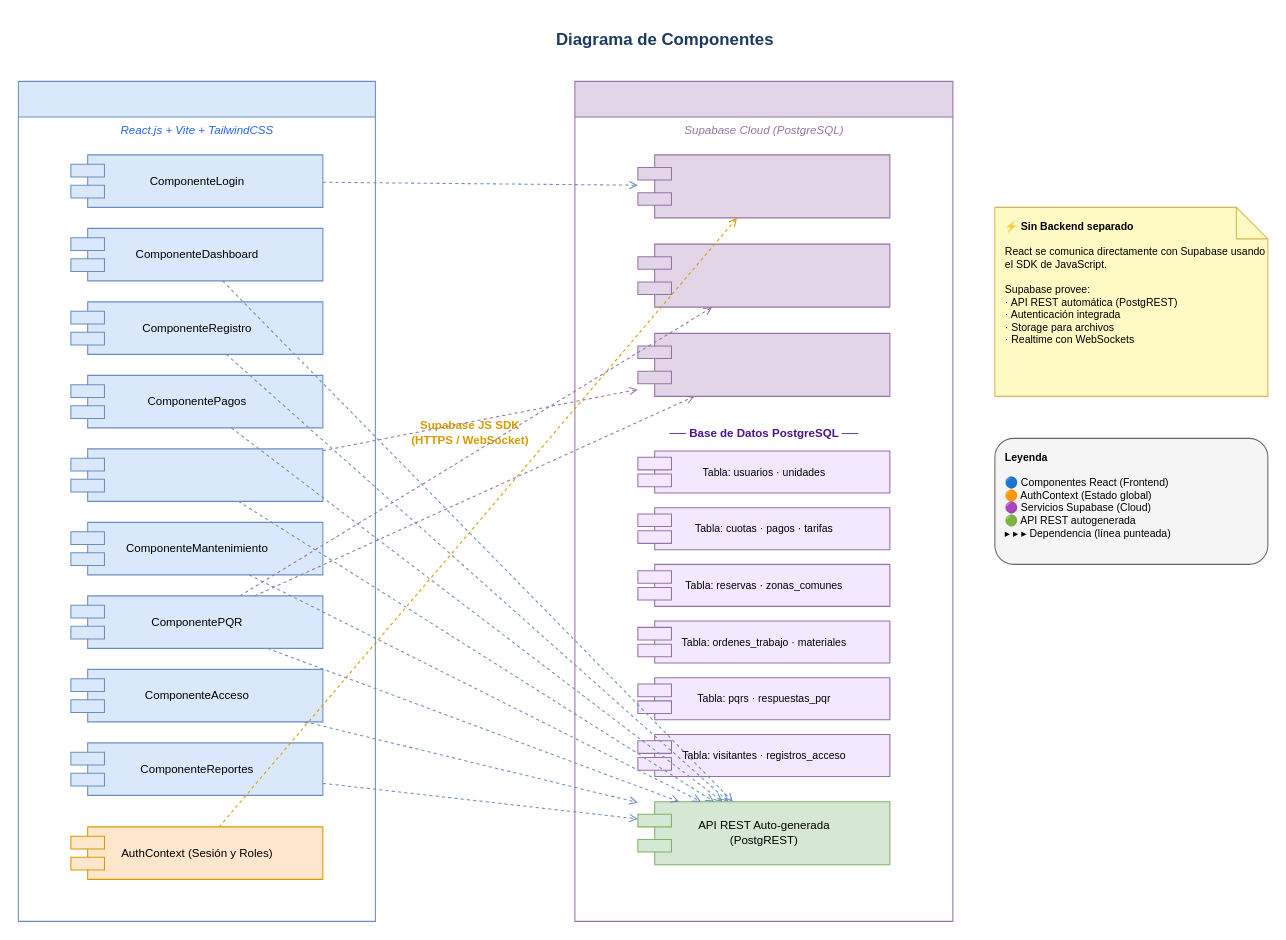
This 1286x940 diagram has some shape labels left out. The centre of each missing label's shape, as x and y in pixels:
"ComponenteReservas" goes at point (196, 474).
"Supabase Auth (Login / Roles / Sesión)" goes at point (763, 186).
"Supabase Realtime (Notificaciones en vivo)" goes at point (763, 364).
"Supabase Storage (Fotos PQRs / Archivos)" goes at point (763, 275).
